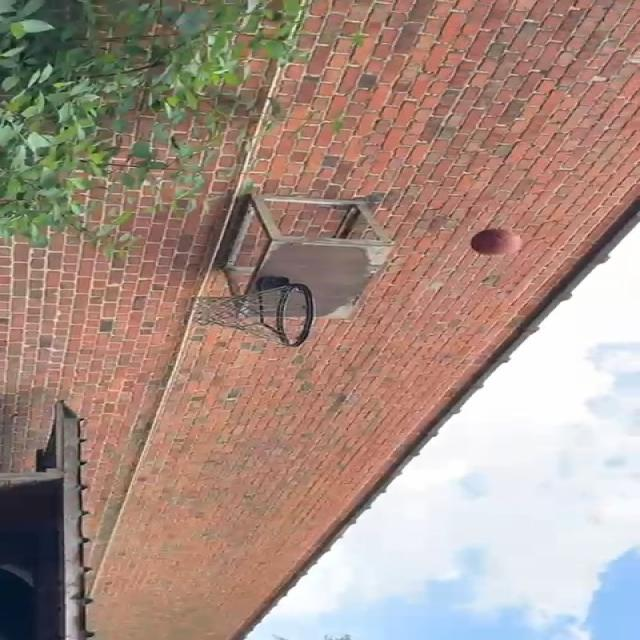Basketball: (472, 228, 521, 257)
